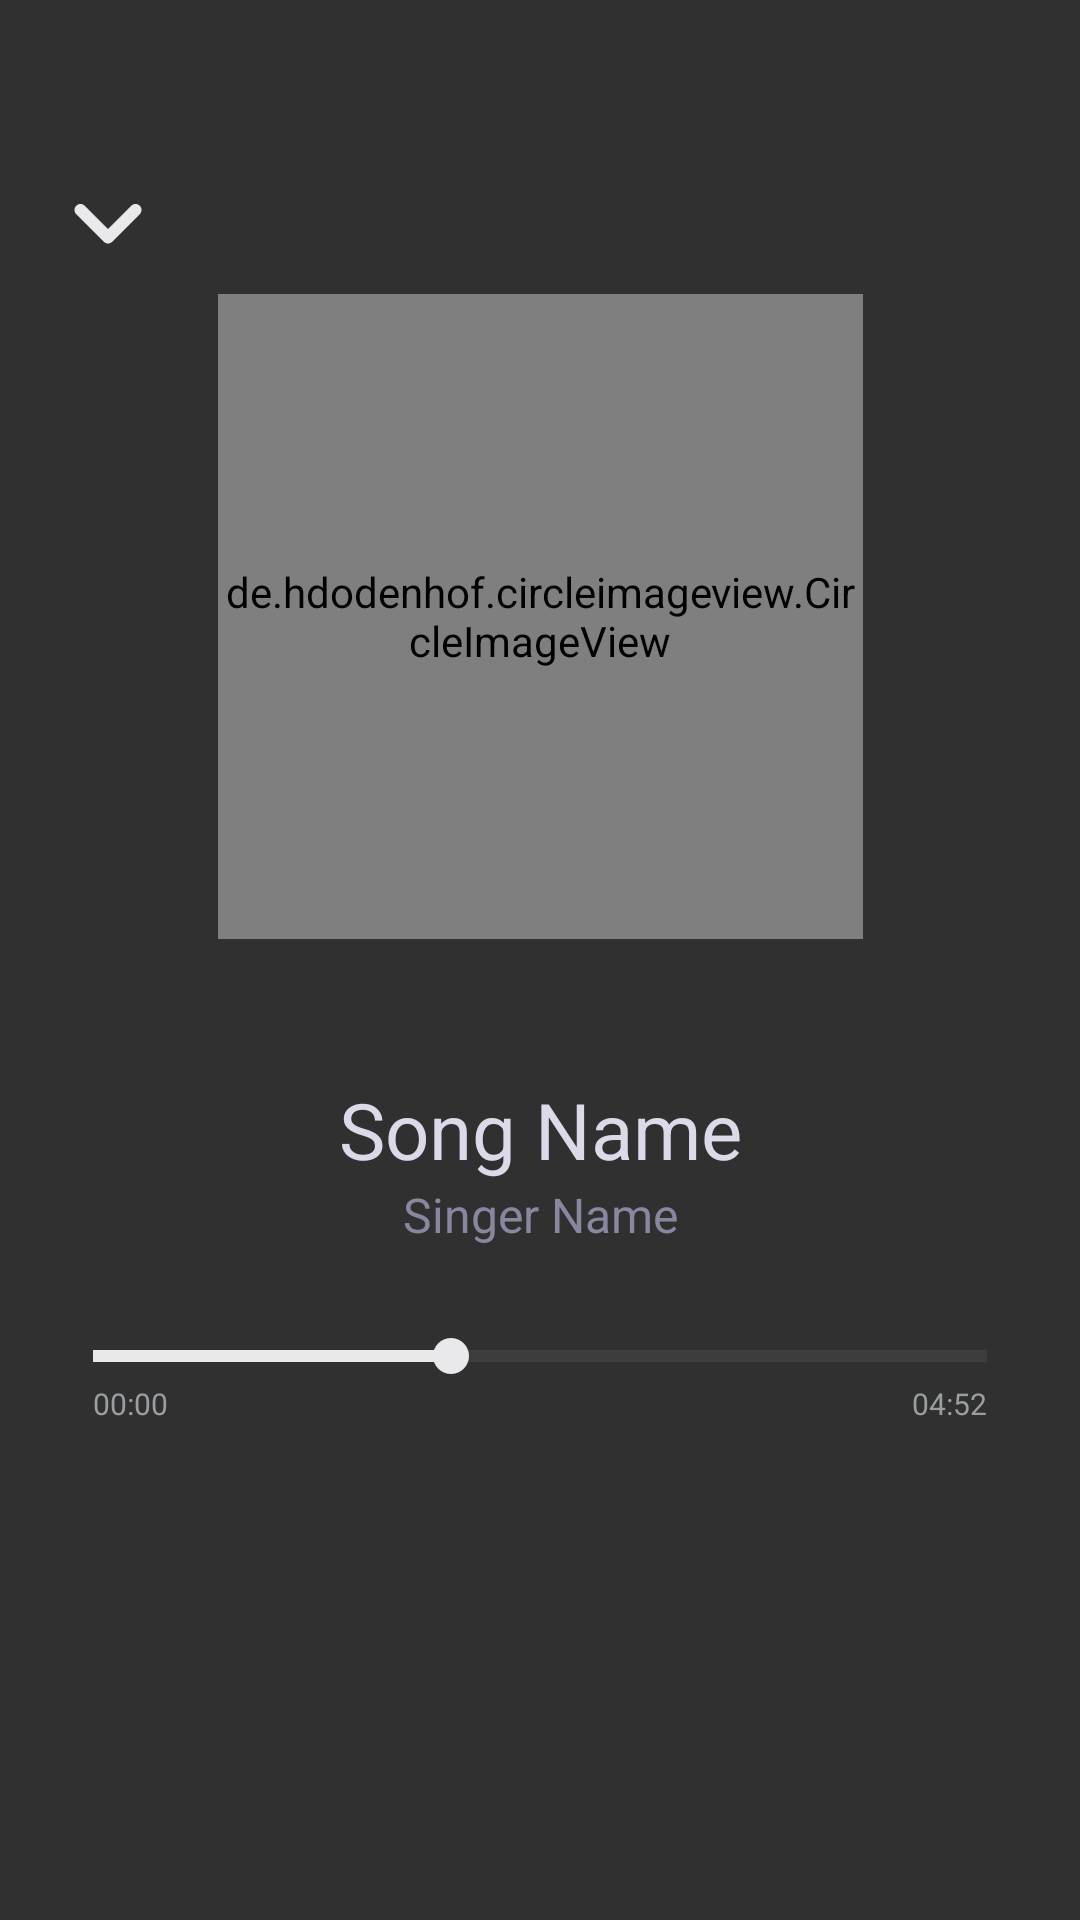

Named icons in this screenshot (1080*1920) and their bounding boxes, (x1, y1, x2, y2):
down arrow: (74, 204, 142, 244)
